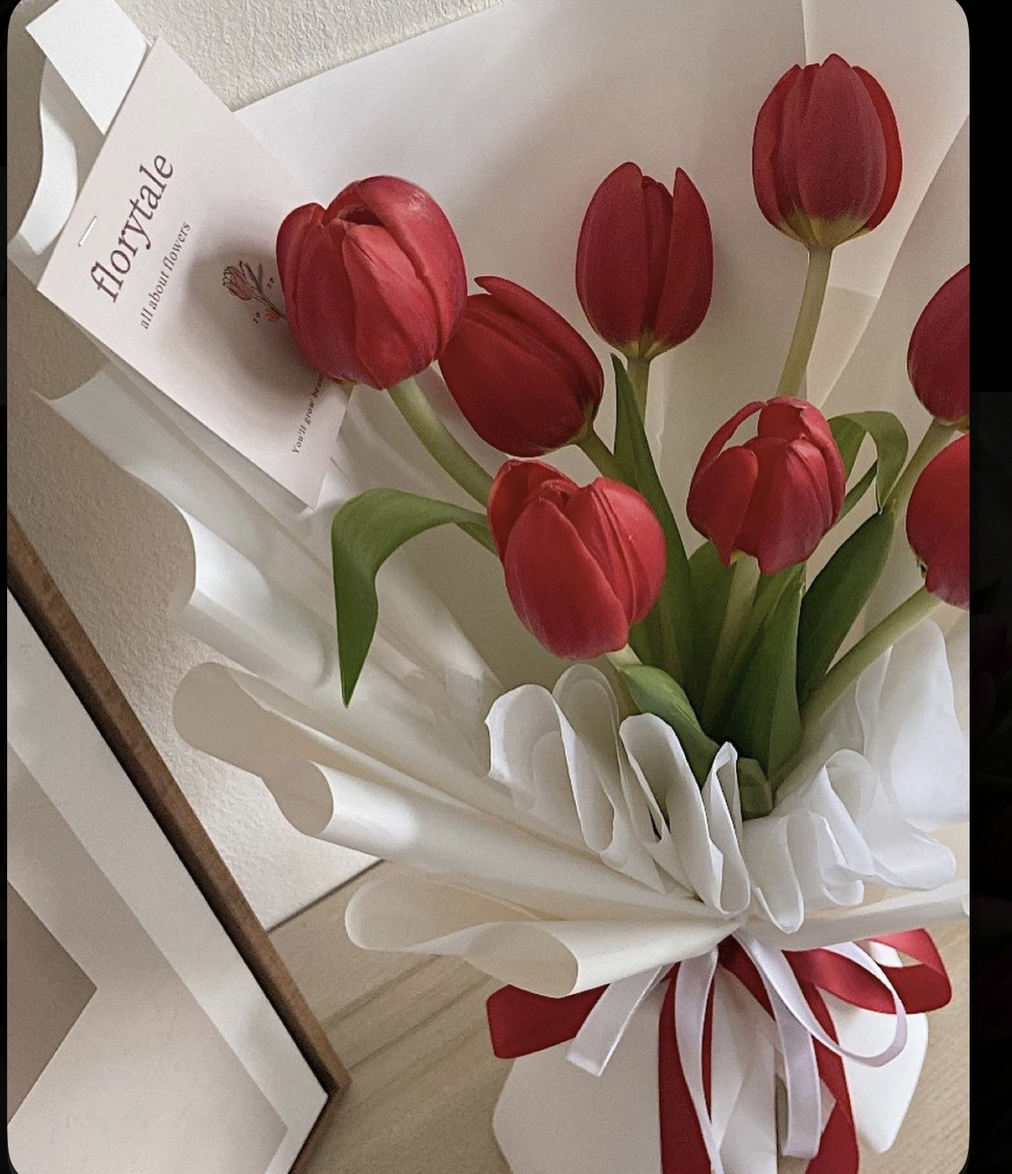tulip: (253, 158, 475, 399), (461, 438, 672, 672), (420, 263, 610, 468), (557, 137, 724, 368), (746, 37, 911, 262), (676, 384, 854, 577), (896, 426, 976, 622), (894, 248, 972, 444)
